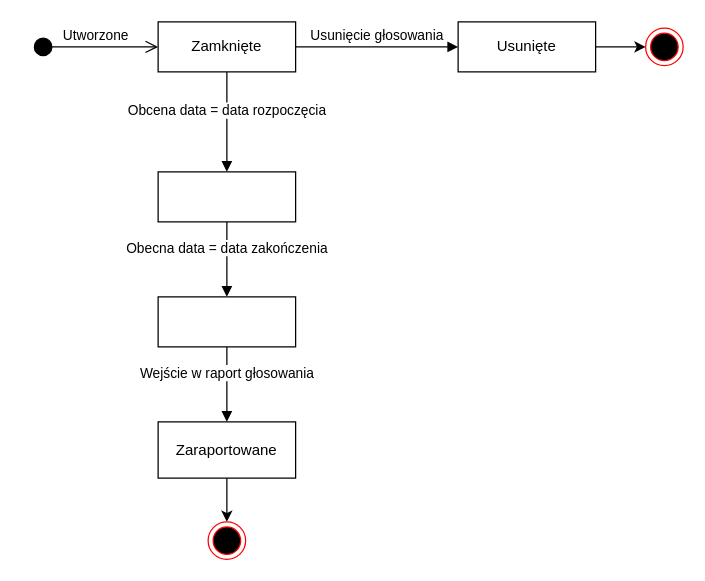
Image size: 705x581. Some labels were removed from this diagram. The centre of each missing label's shape, as x and y in pixels:
"Otwarte" belongs at (226,196).
"Zakończone" belongs at (226,321).
